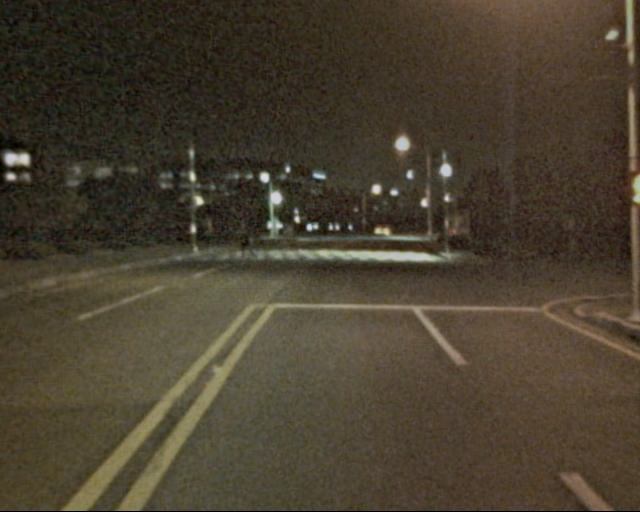person: (236, 227, 253, 267)
